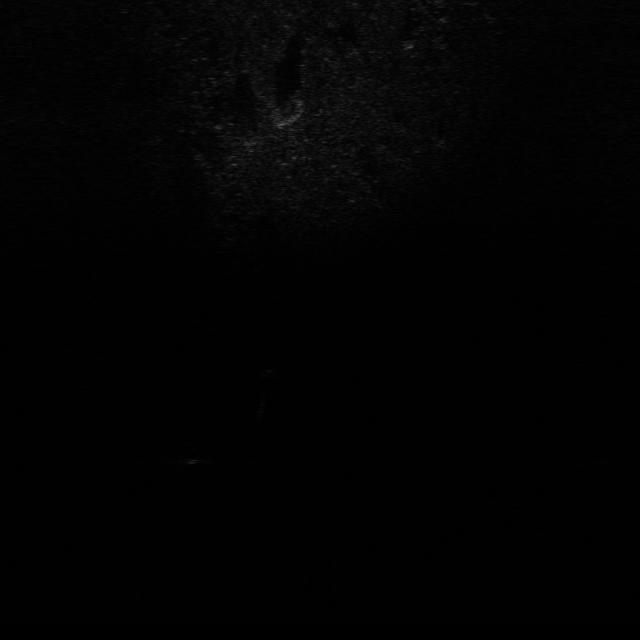ball: (177, 440, 212, 467)
cube: (251, 366, 288, 391)
